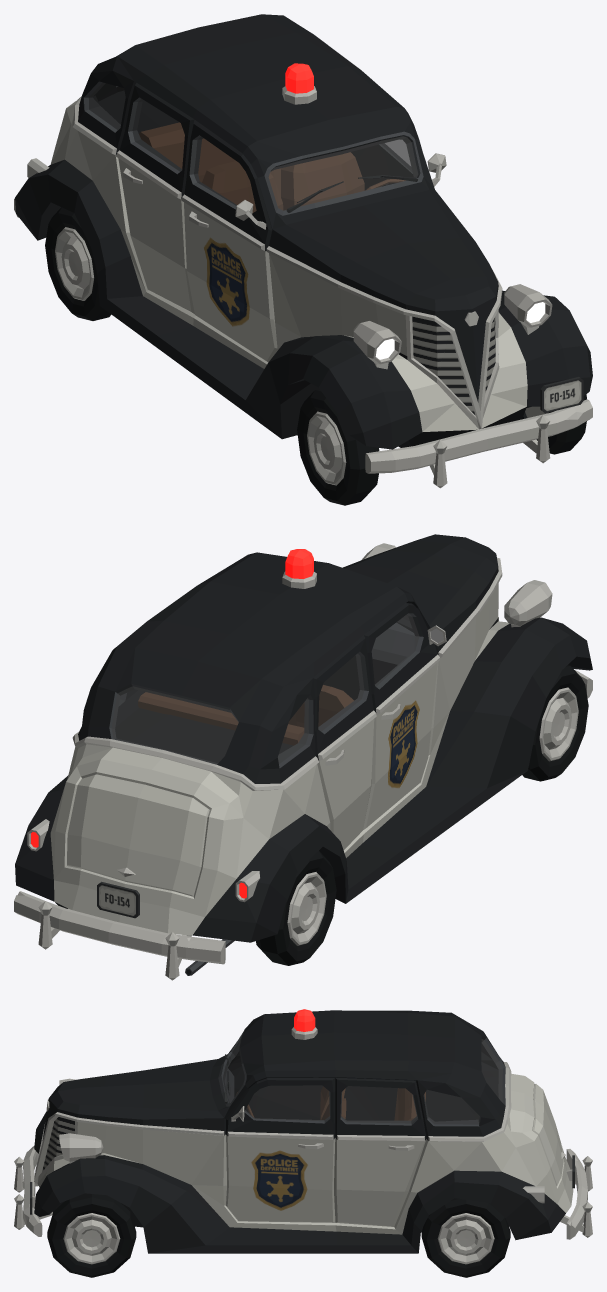
File: PoliceCar_01.fbx
3 views of the same model, one above another, from view 1: azimuth 30°, elevation 25°; view 2: azimuth 150°, elevation 25°; view 3: azimuth 270°, elevation 25° (orthographic). The views are drawn at different scales.
Parts seen in each view (by area): view 1: PoliceCar_01, PoliceCar_01_Glass; view 2: PoliceCar_01, PoliceCar_01_Glass; view 3: PoliceCar_01, PoliceCar_01_Glass.
Boxes of the visible parts, x1=… form: PoliceCar_01: x1=14, y1=14, x2=592, y2=505; PoliceCar_01_Glass: x1=89, y1=82, x2=418, y2=212; PoliceCar_01: x1=14, y1=534, x2=592, y2=980; PoliceCar_01_Glass: x1=111, y1=613, x2=419, y2=763; PoliceCar_01: x1=14, y1=1009, x2=592, y2=1277; PoliceCar_01_Glass: x1=223, y1=1039, x2=502, y2=1124.
Bounding box in the file's own units: 1.94 × 2.18 × 5.06.
